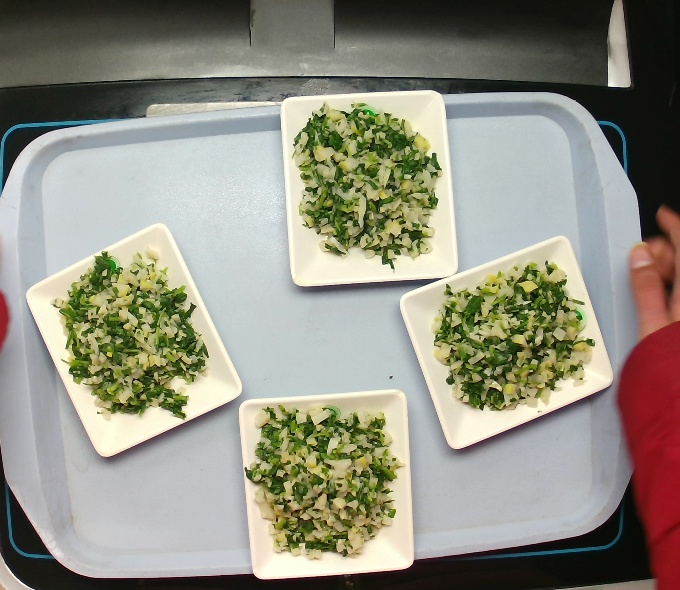wcq-MaLanTouBanChunSun: (418, 262, 606, 419), (50, 247, 218, 420), (234, 396, 413, 558), (292, 96, 445, 276)
